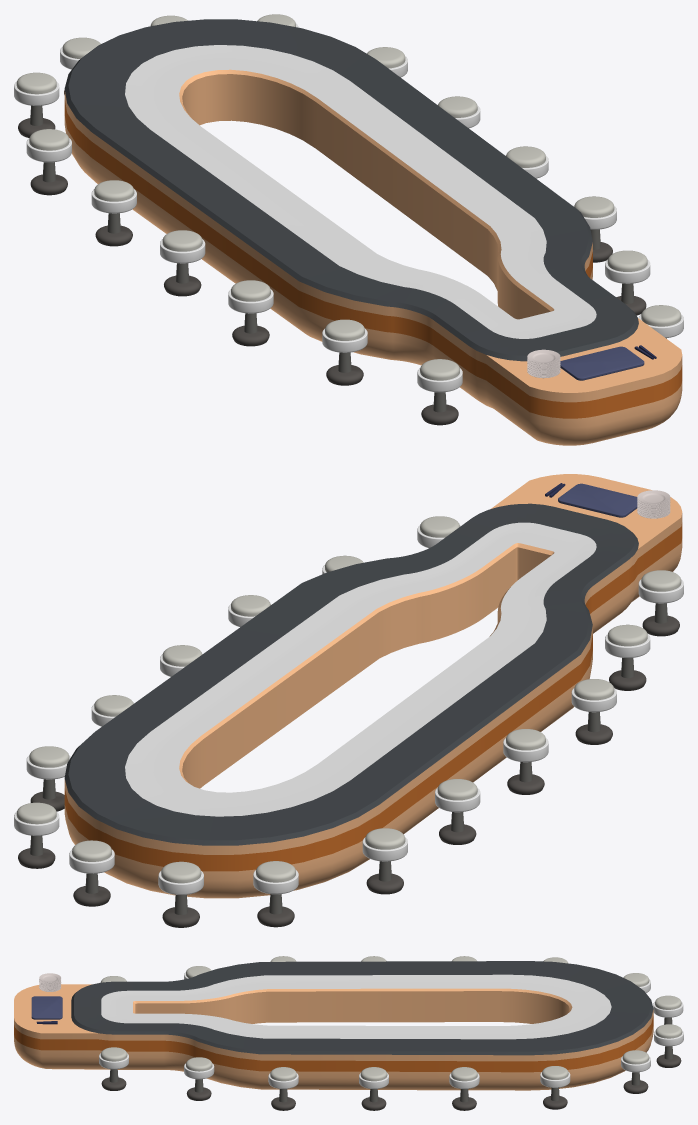
Rendered from sahne (8).fbx.
The picture shows the model from 3 angles, top to bottom: view 1: azimuth 30°, elevation 25°; view 2: azimuth 150°, elevation 25°; view 3: azimuth 270°, elevation 25°; orthographic projection. The views are drawn at different scales.
Visible parts, largest first — view 1: Alt Kısım, Üst Ray, Üst Ray.001, Sandalyeler, Tahta, Tabak.007; view 2: Alt Kısım, Üst Ray, Üst Ray.001, Sandalyeler, Tahta, Tabak.007; view 3: Alt Kısım, Üst Ray, Üst Ray.001, Sandalyeler, Tahta, Tabak.007.
Part boxes in pixels (x1=…): Alt Kısım: x1=64, y1=69, x2=682, y2=445; Üst Ray: x1=64, y1=19, x2=638, y2=361; Üst Ray.001: x1=125, y1=45, x2=596, y2=338; Sandalyeler: x1=14, y1=14, x2=683, y2=425; Tahta: x1=560, y1=346, x2=644, y2=380; Tabak.007: x1=527, y1=349, x2=560, y2=378; Alt Kısım: x1=64, y1=474, x2=682, y2=898; Üst Ray: x1=64, y1=503, x2=638, y2=845; Üst Ray.001: x1=125, y1=522, x2=596, y2=816; Sandalyeler: x1=14, y1=516, x2=683, y2=927; Tahta: x1=558, y1=483, x2=637, y2=517; Tabak.007: x1=637, y1=490, x2=670, y2=518; Alt Kısım: x1=14, y1=984, x2=653, y2=1090; Üst Ray: x1=71, y1=961, x2=653, y2=1055; Üst Ray.001: x1=101, y1=974, x2=611, y2=1039; Sandalyeler: x1=99, y1=956, x2=683, y2=1110; Tahta: x1=31, y1=996, x2=62, y2=1019; Tabak.007: x1=39, y1=973, x2=61, y2=991.
Size of what is drawn, in the model's own units: 4.74 by 0.9817 by 10.85.
